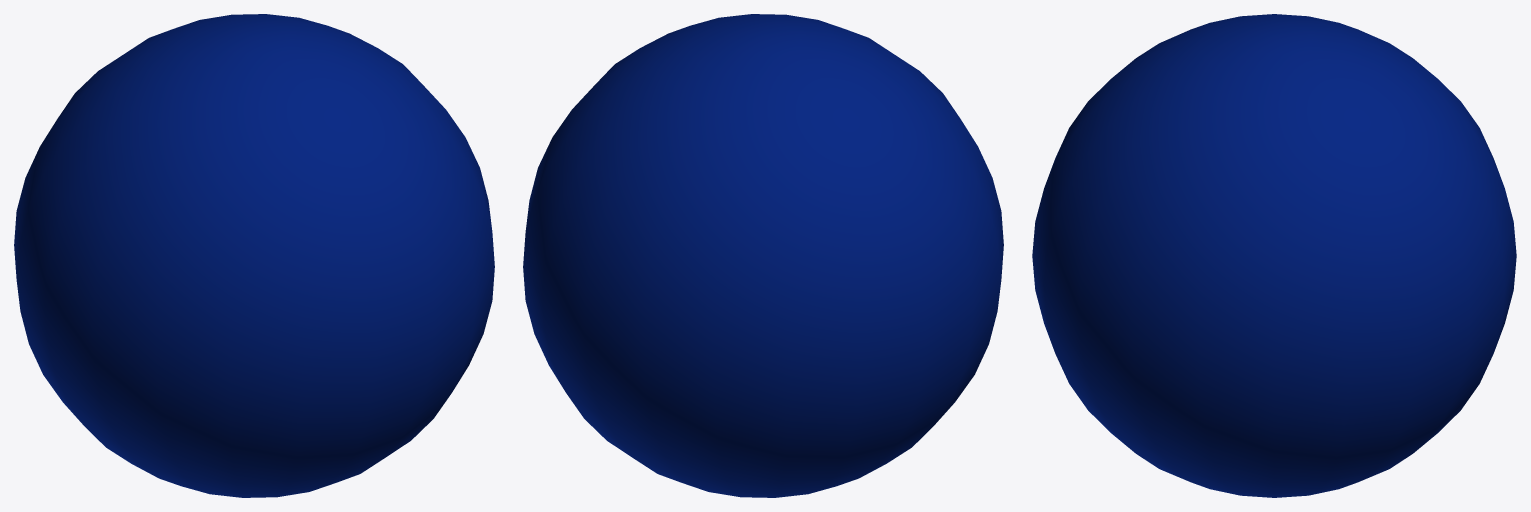
Rendered from He_Orbital.gltf.
3 renders of one model, left to right at view 1: azimuth 30°, elevation 25°; view 2: azimuth 150°, elevation 25°; view 3: azimuth 270°, elevation 25°, orthographic.
Parts seen in each view (by area): view 1: Orbital_1S1; view 2: Orbital_1S1; view 3: Orbital_1S1.
Part boxes in pixels (bbox=[...]): Orbital_1S1: bbox=[14, 14, 494, 497]; Orbital_1S1: bbox=[523, 14, 1003, 497]; Orbital_1S1: bbox=[1032, 14, 1516, 497].
Size of the model in its own units: 29.32 by 29.31 by 29.31.
Materials: 4 (4 with a texture image).
